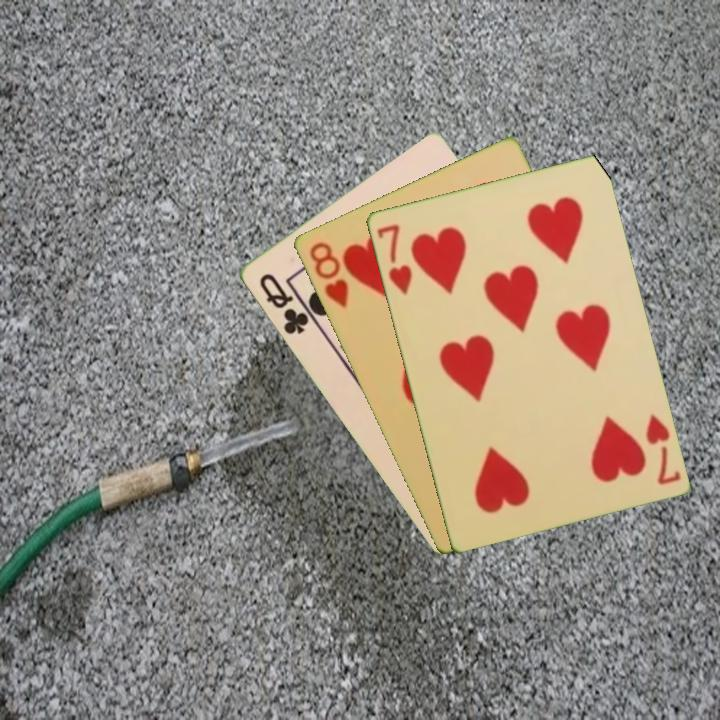7h: (372, 220, 415, 298), (641, 410, 683, 487)
8h: (305, 238, 351, 311)
Qc: (255, 269, 311, 338)
